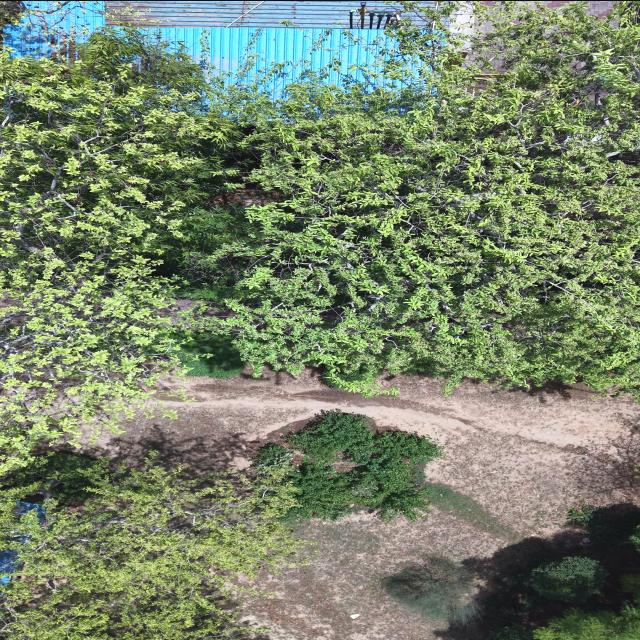DRY_AREA: (98, 369, 639, 639), (101, 370, 638, 527), (96, 369, 639, 508), (242, 506, 594, 639), (167, 369, 637, 451), (190, 372, 636, 450), (239, 509, 486, 639), (585, 1, 615, 17)
ROOFTOP_BUILDING: (5, 1, 426, 88), (5, 1, 428, 72), (106, 1, 407, 28), (0, 549, 18, 584)
VEGETATION_TREE: (0, 1, 639, 639), (0, 1, 639, 470), (0, 30, 302, 639), (190, 1, 639, 393), (0, 29, 239, 470), (0, 453, 306, 639), (443, 504, 639, 639), (253, 410, 441, 520), (534, 573, 639, 639), (382, 558, 479, 620), (0, 1, 107, 55), (2, 451, 106, 502), (424, 483, 516, 539), (563, 504, 639, 552), (534, 605, 639, 639), (528, 556, 607, 601), (177, 332, 245, 377), (252, 443, 295, 471), (567, 503, 598, 525), (488, 625, 534, 639), (0, 1, 26, 24), (621, 573, 639, 601), (630, 527, 639, 550)
